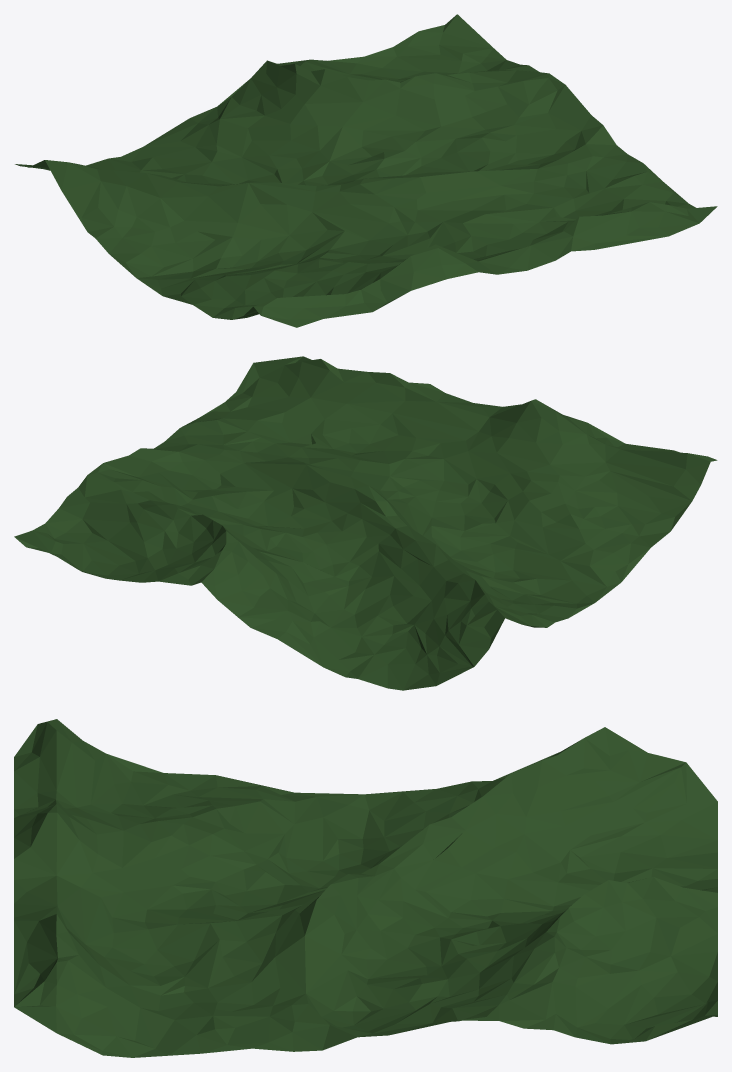
File: SM_landscape_24.fbx
The picture shows the model from 3 angles, top to bottom: view 1: azimuth 30°, elevation 25°; view 2: azimuth 150°, elevation 25°; view 3: azimuth 270°, elevation 25°; orthographic projection. The views are drawn at different scales.
Parts seen in each view (by area): view 1: landscape_24; view 2: landscape_24; view 3: landscape_24.
Boxes of the visible parts, x1,y1,x2,y2 form: landscape_24: (15, 14, 717, 327); landscape_24: (14, 356, 717, 690); landscape_24: (14, 719, 717, 1057).
Bounding box in the file's own units: 2224 × 375 × 2224.
